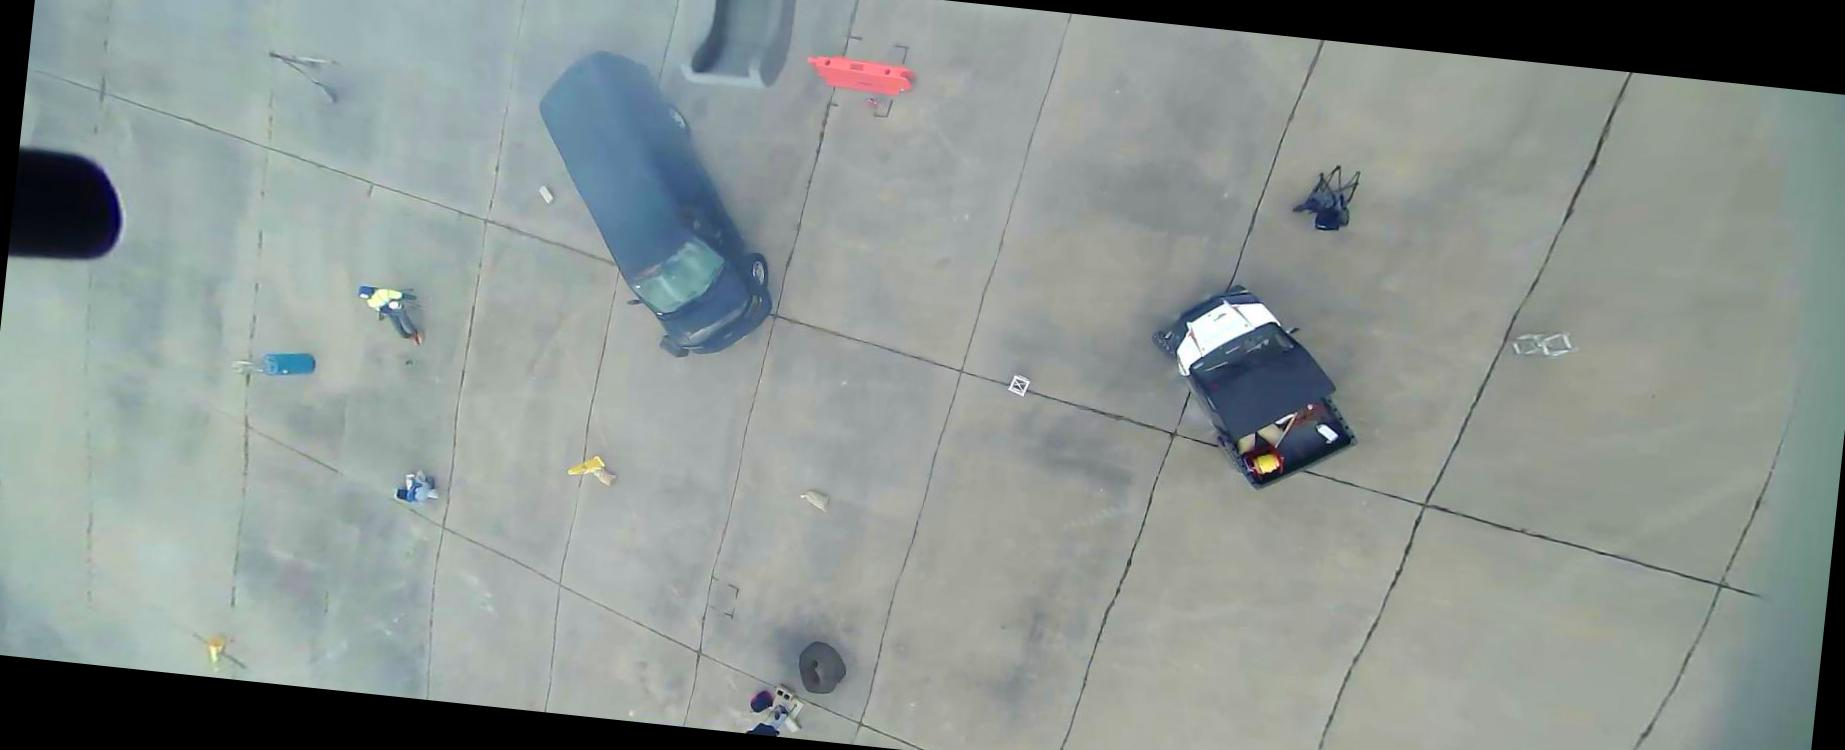vehicle: (514, 46, 795, 363), (1136, 276, 1372, 499)
